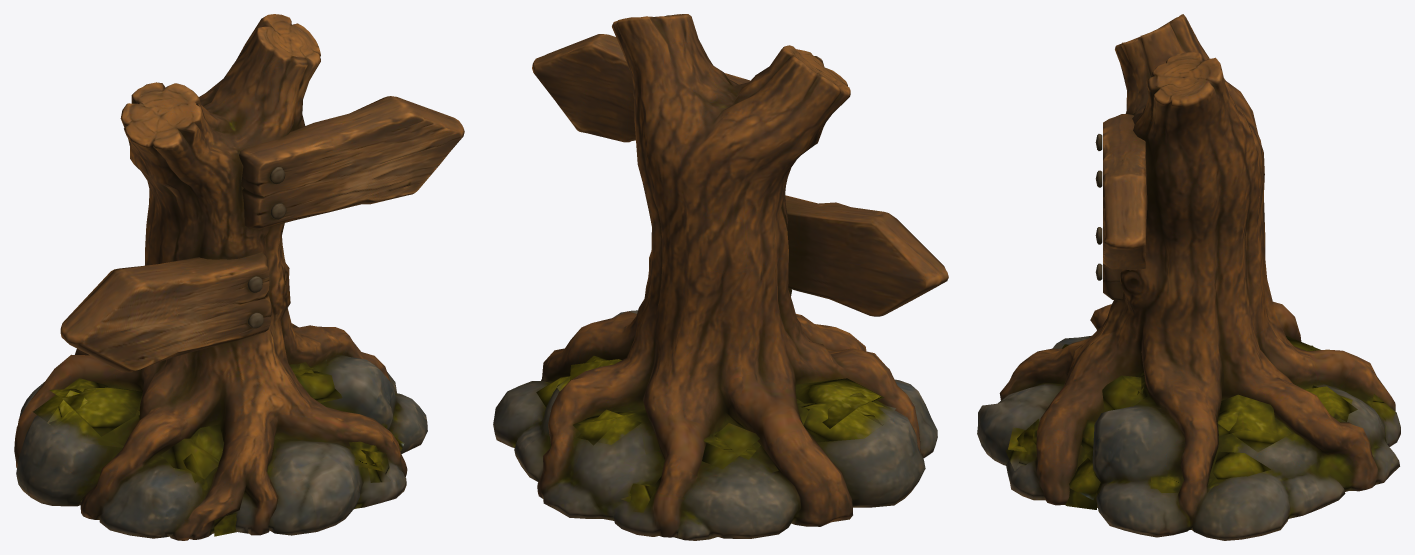
File: trail.glb
3 views of the same model, side by side, from view 1: azimuth 30°, elevation 25°; view 2: azimuth 150°, elevation 25°; view 3: azimuth 270°, elevation 25° (orthographic). The views are drawn at different scales.
Parts seen in each view (by area): view 1: geometry_0; view 2: geometry_0; view 3: geometry_0.
Boxes of the visible parts, x1,y1,x2,y2 form: geometry_0: (14,14,464,540); geometry_0: (493,14,948,540); geometry_0: (977,14,1400,540).
Size of the model in its own units: 0.9609 by 0.9448 by 0.8687.
Materials: 1 (1 with a texture image).
